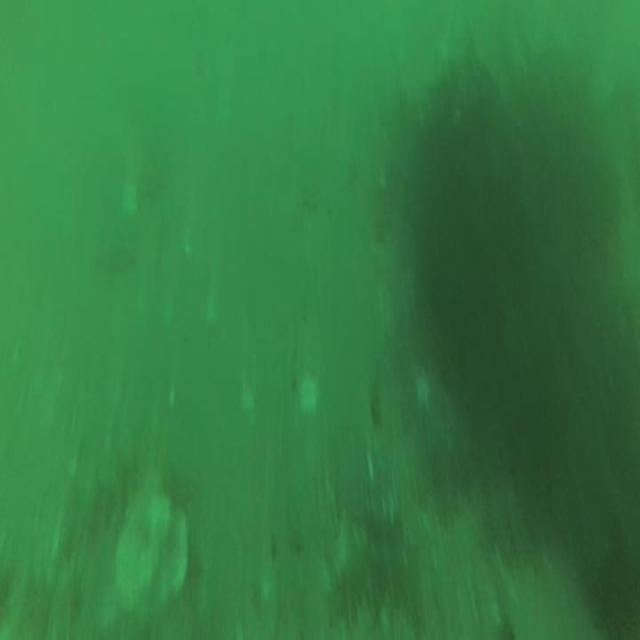holothurian: (326, 545, 422, 621), (74, 452, 144, 542)
scallop: (114, 478, 190, 622)
